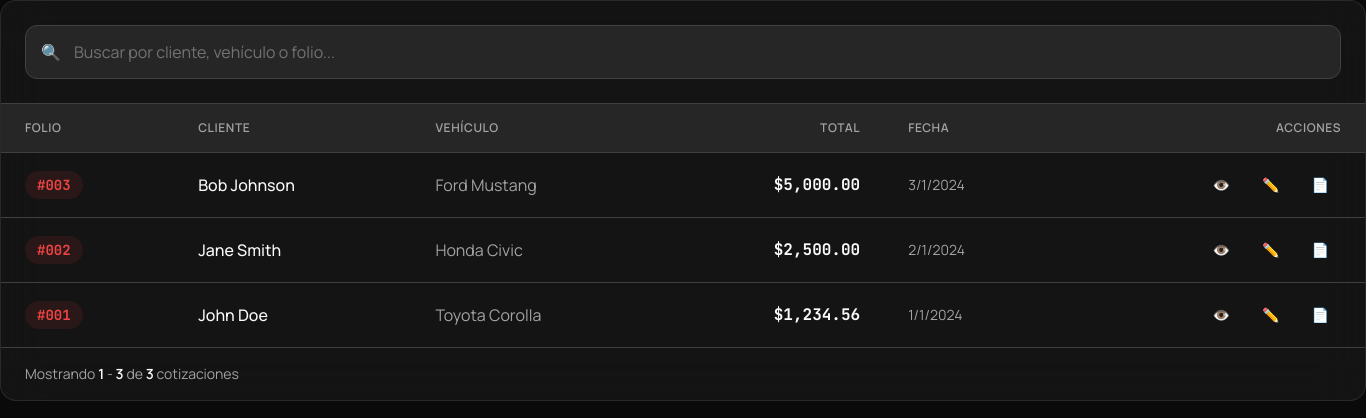
it: QuotationList component › filters quotations by client name
Type "John" into the field with placeholder "Buscar por cliente, vehículo o folio..." at (683, 52), box [25,25,1341,79]
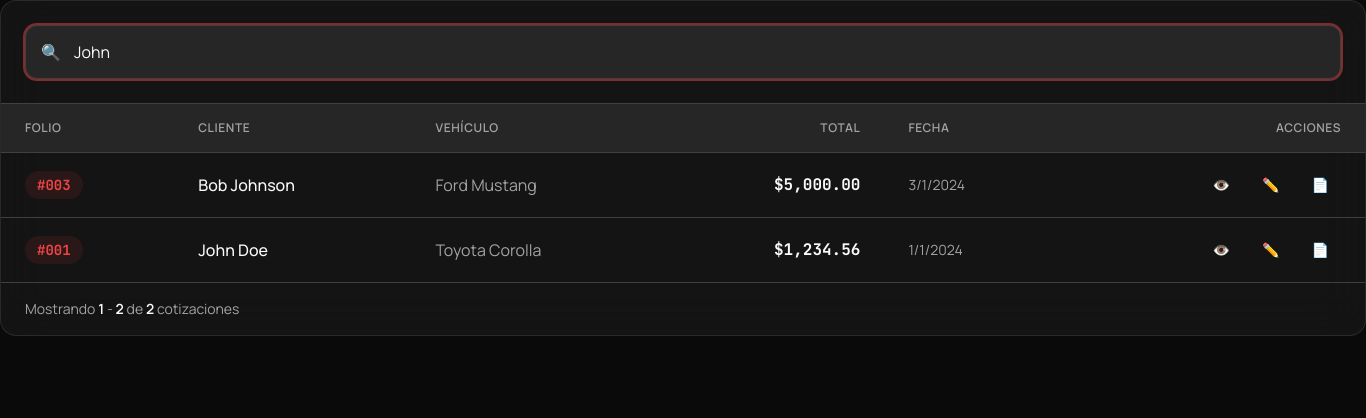
Expected: the text "John Doe" is shown, [174,218,412,282]
Expected: the text "Jane Smith" is gone
